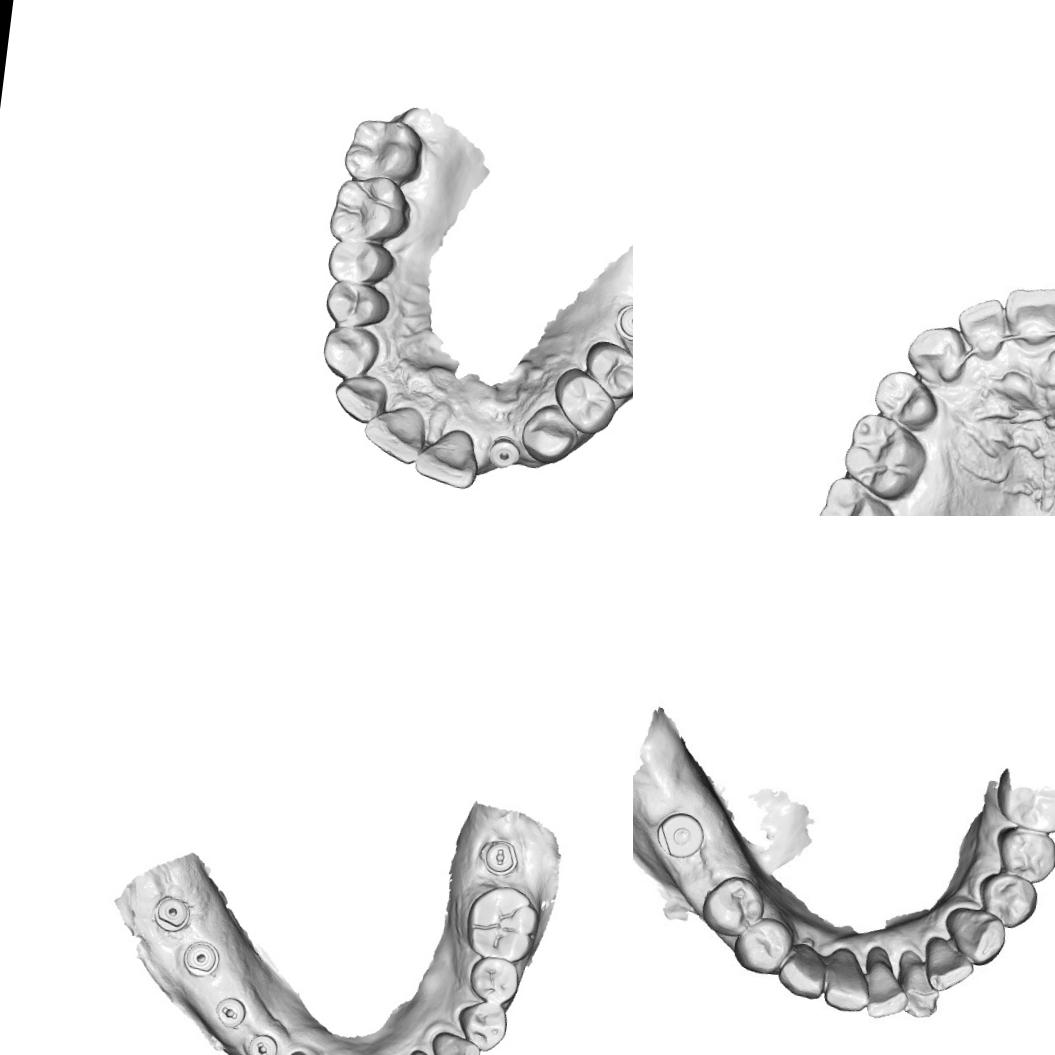canine: (900, 319, 970, 390), (941, 902, 1012, 966), (518, 399, 582, 469), (316, 322, 382, 384), (773, 936, 831, 1006), (425, 1028, 484, 1055)
implant: (659, 800, 710, 864), (151, 892, 193, 936), (180, 939, 222, 980), (484, 432, 524, 471), (611, 301, 633, 344)
implant_minus: (481, 837, 522, 878), (213, 996, 248, 1030), (242, 1029, 280, 1055)
incisor: (410, 419, 483, 492), (360, 404, 432, 468), (997, 281, 1055, 357), (951, 293, 1009, 363), (916, 931, 977, 997), (856, 940, 903, 1023), (823, 944, 876, 1015), (895, 948, 944, 1023), (331, 370, 391, 428)
molar: (838, 408, 932, 506), (324, 169, 416, 249), (461, 881, 544, 965), (340, 113, 427, 190), (812, 471, 904, 516)
premolar: (548, 364, 620, 436), (868, 366, 943, 434), (974, 868, 1042, 934), (700, 868, 764, 938), (989, 821, 1055, 886), (730, 910, 793, 978), (325, 237, 398, 289), (322, 278, 392, 331), (580, 337, 633, 402), (453, 998, 512, 1054), (465, 954, 523, 1006)
